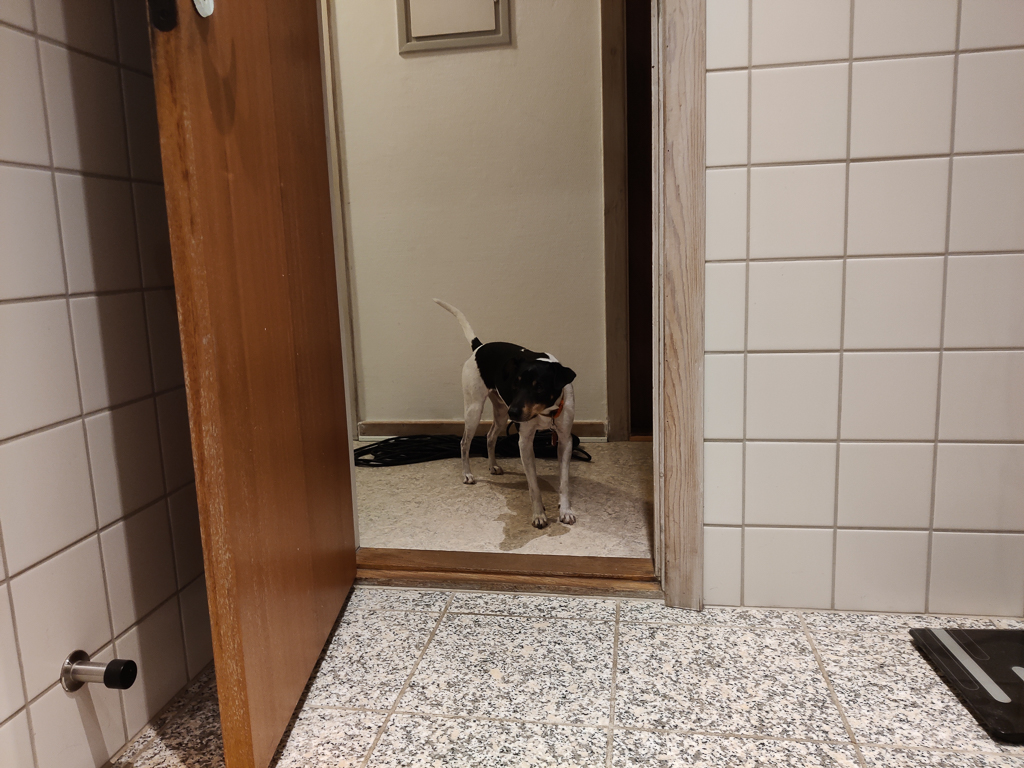Dog: (421, 287, 593, 530)
